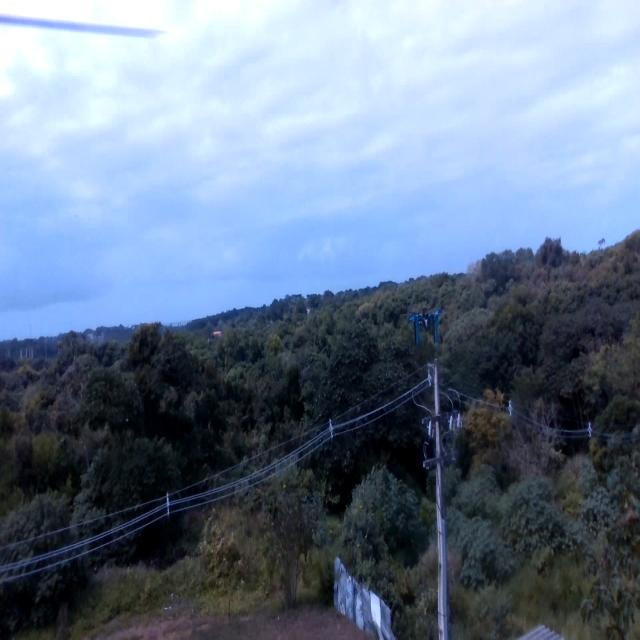-uav-: (403, 290, 445, 356)
